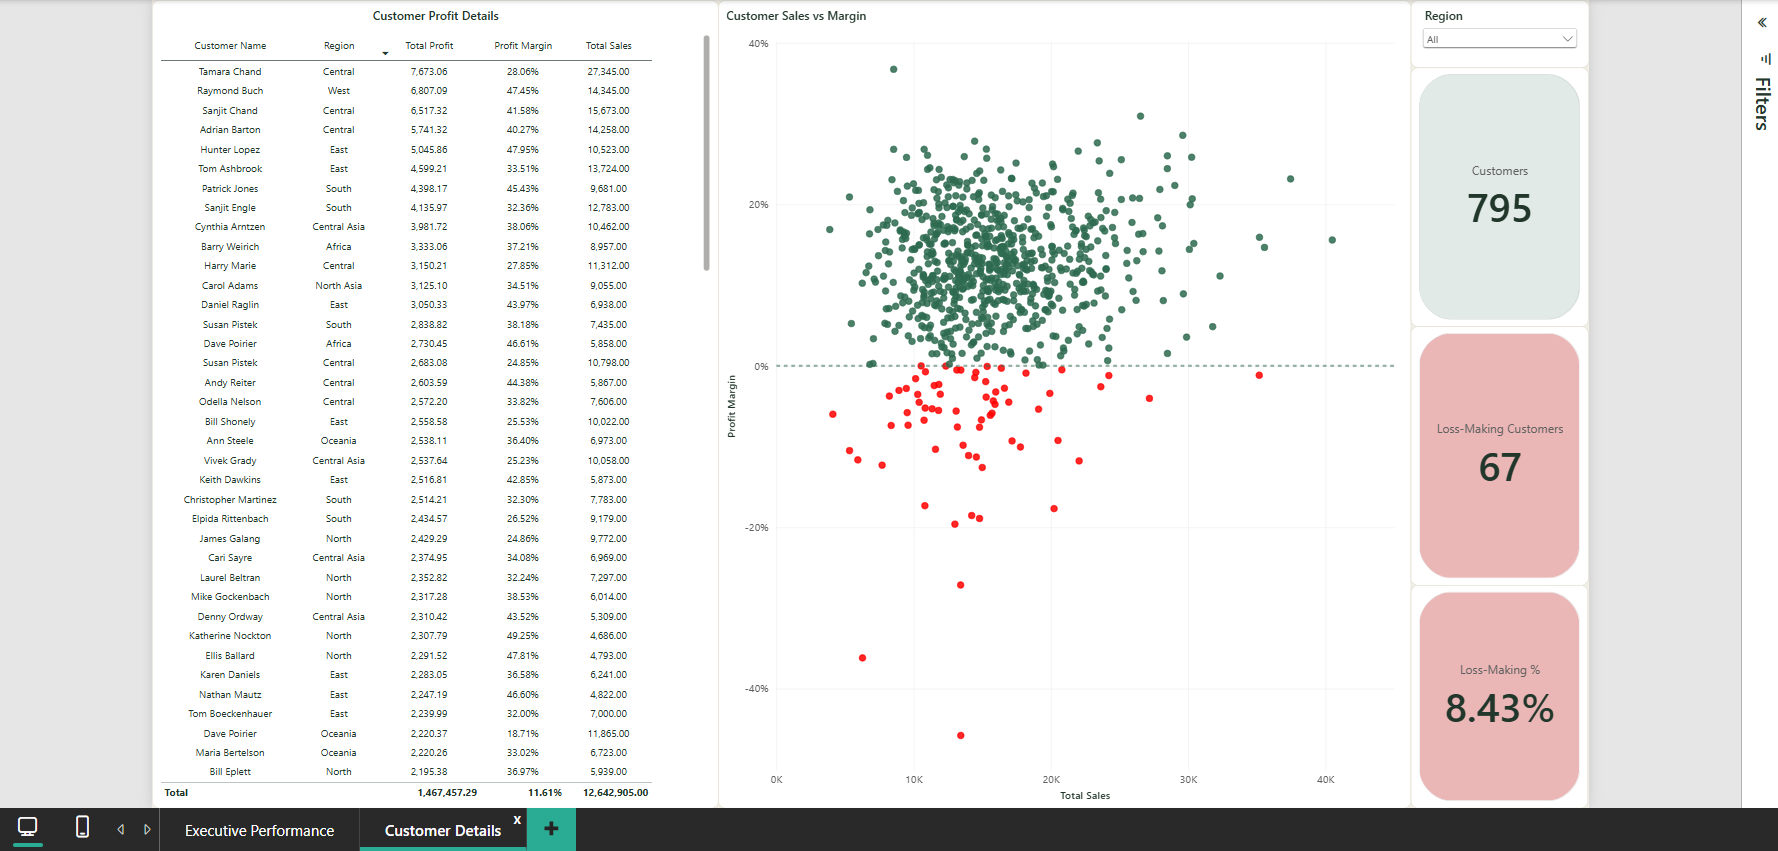

What the dashboard file says about the page in this screenshot:
{"tool":"powerbi","page":{"name":"Customer Details","canvas":[1920,1080],"ordinal":1},"visuals":[{"type":"tableEx","title":"Customer Profit Details","fields":{"Values":["Sales.Customer_Name","Sales.Region","Sum(Sales.Profit)","Sales.Profit Margin","Sum(Sales.Sales)"]},"box":[0,0,756.4,1080.4],"z":0},{"type":"slicer","fields":{"Values":["Sales.Region"]},"box":[1682.2,0,238,90],"z":1000},{"type":"scatterChart","title":"Customer Sales vs Margin","fields":{"Category":["Sales.Customer_Name"],"X":["Sum(Sales.Sales)"],"Y":["Sales.Profit Margin"]},"box":[756.4,0,925.8,1080.4],"z":2000},{"type":"cardVisual","fields":{"Data":["Sales.Customers"]},"box":[1682.2,90.2,237.4,346],"z":3000},{"type":"cardVisual","fields":{"Data":["Sales.Loss-Making Customers"]},"box":[1682.2,436.2,237.4,346],"z":4000},{"type":"cardVisual","fields":{"Data":["Sales.Loss-Making %"]},"box":[1682,782,237,298],"z":5000}]}

Visuals, with their boxes on the page's 1920x1080 design canvas (x1, y1, x2, y2). These are canvas units, not pixel positions in the 1778x851 screenshot, which may show the page scaled, cropped or inside an application window:
"Customer Profit Details" tableEx: [left=0, top=0, right=756, bottom=1080]
slicer - Sales.Region: [left=1682, top=0, right=1920, bottom=90]
"Customer Sales vs Margin" scatterChart: [left=756, top=0, right=1682, bottom=1080]
cardVisual - Sales.Customers: [left=1682, top=90, right=1920, bottom=436]
cardVisual - Sales.Loss-Making Customers: [left=1682, top=436, right=1920, bottom=782]
cardVisual - Sales.Loss-Making %: [left=1682, top=782, right=1919, bottom=1080]
